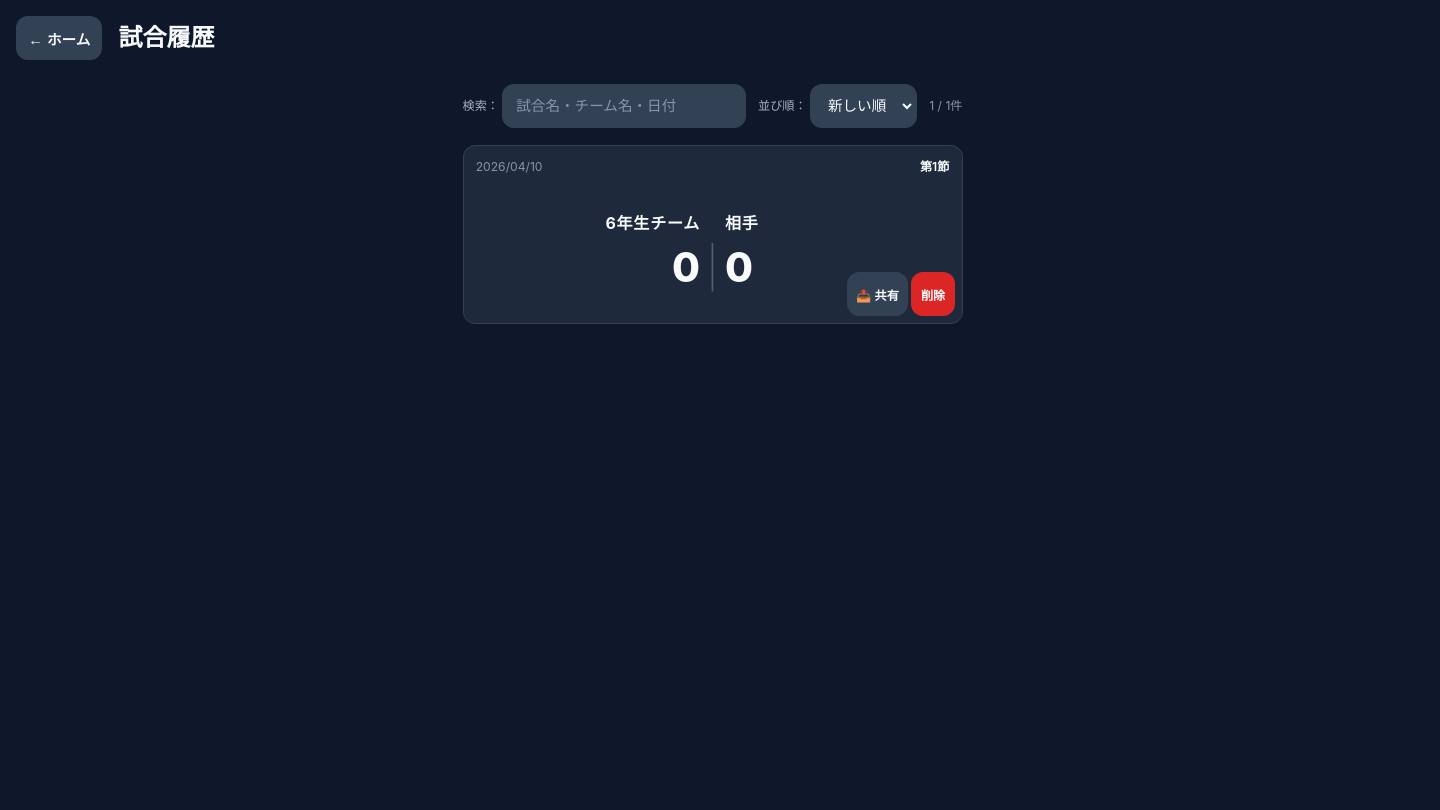
Scenario: 履歴の削除: 保存に失敗したとき › 消せたときは知らせない
Click the button "削除" at point(933, 294), box [911, 272, 955, 316]
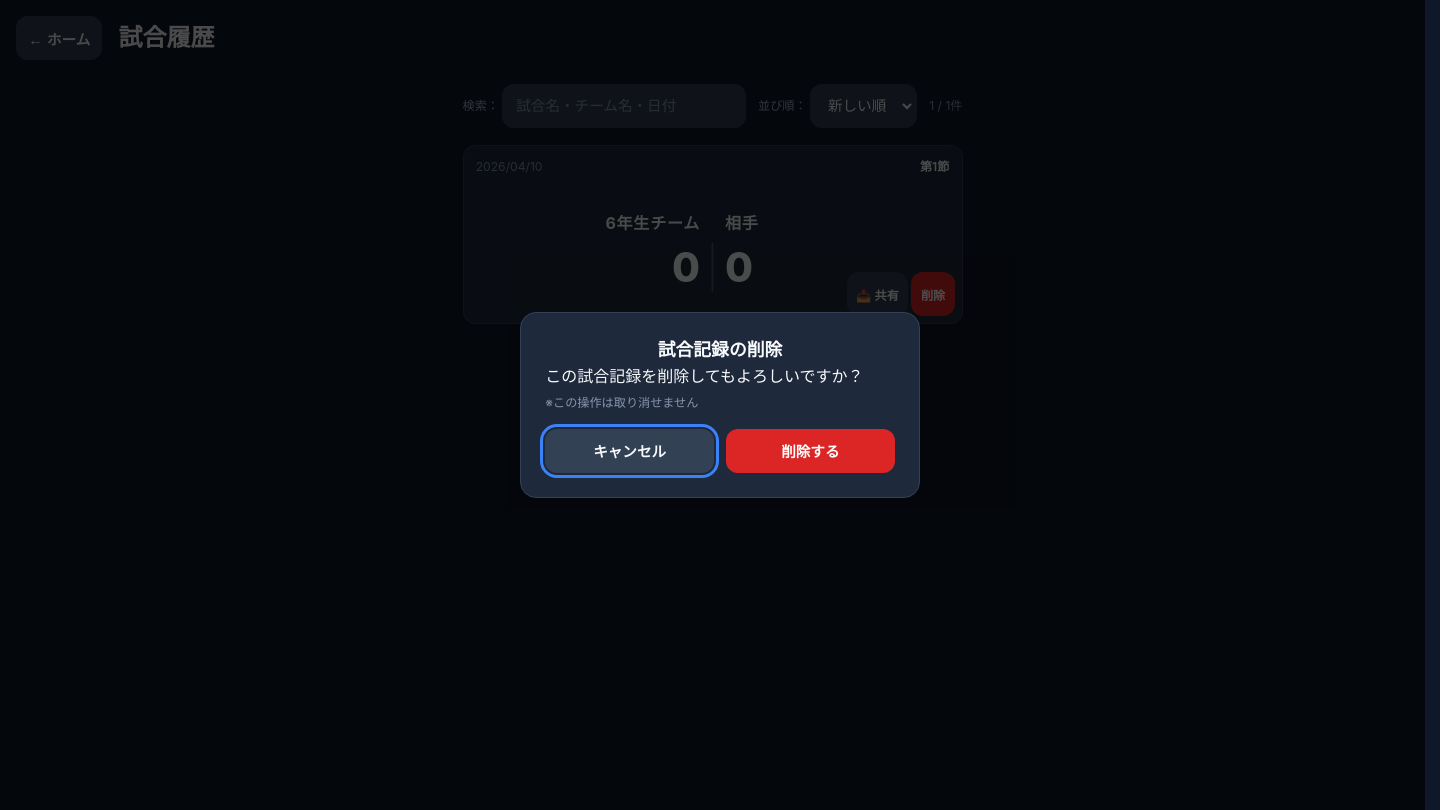
Click the button "削除する" at point(810, 451), box [726, 429, 895, 473]
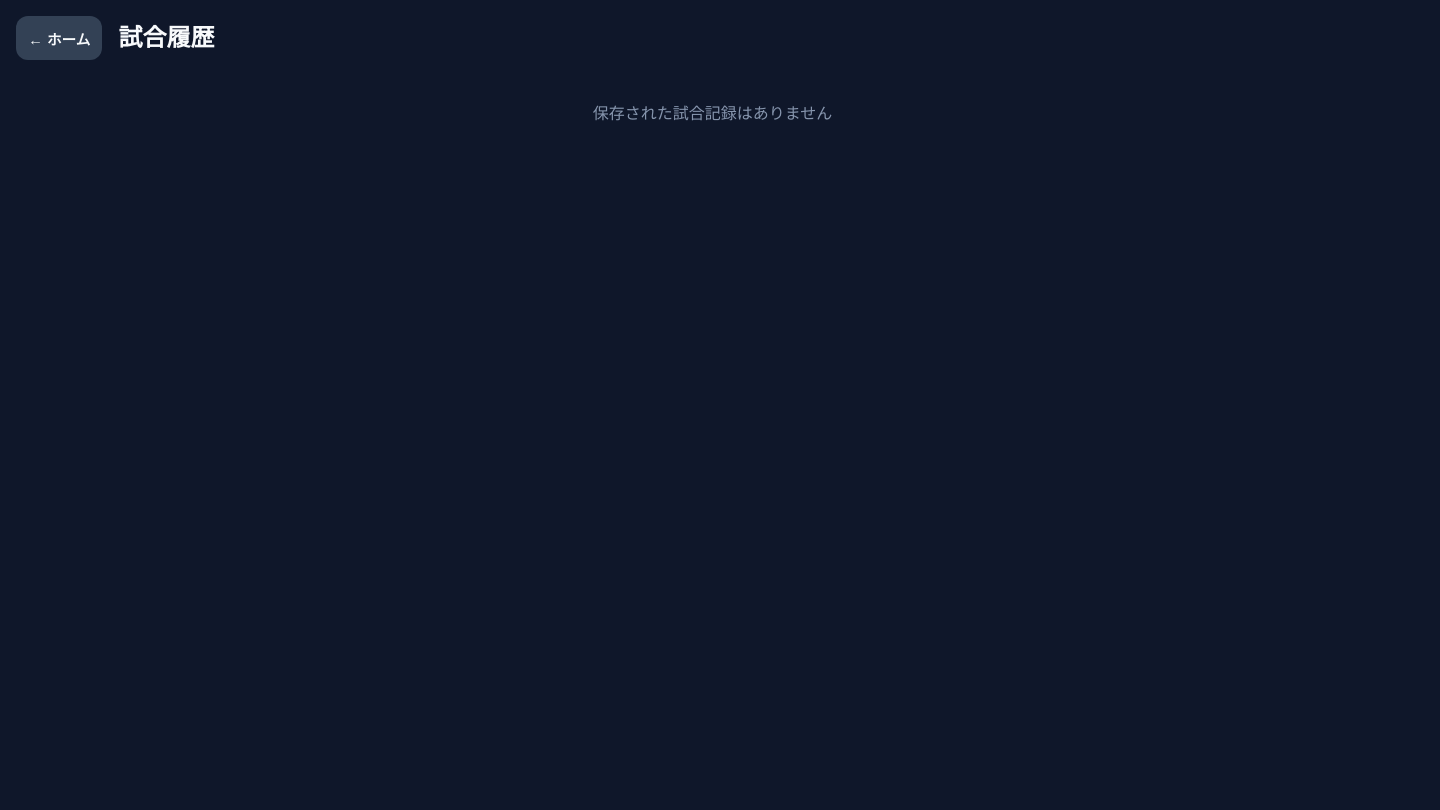
Now the button "第1節" is gone
